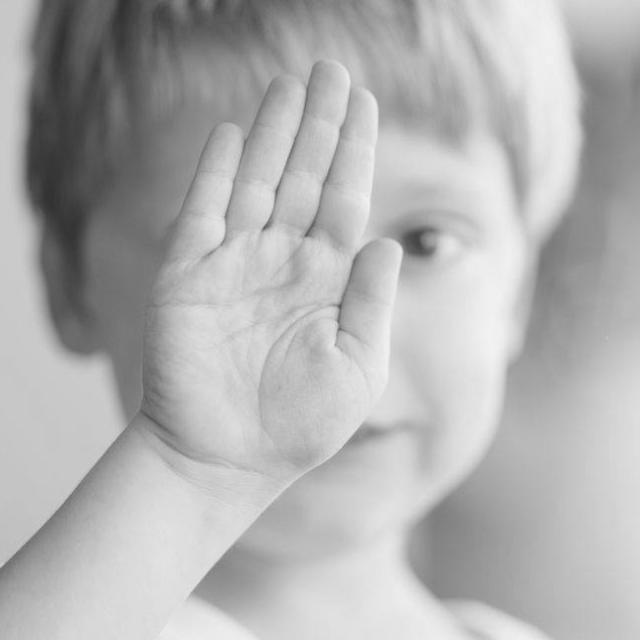stop: (134, 50, 411, 483)
